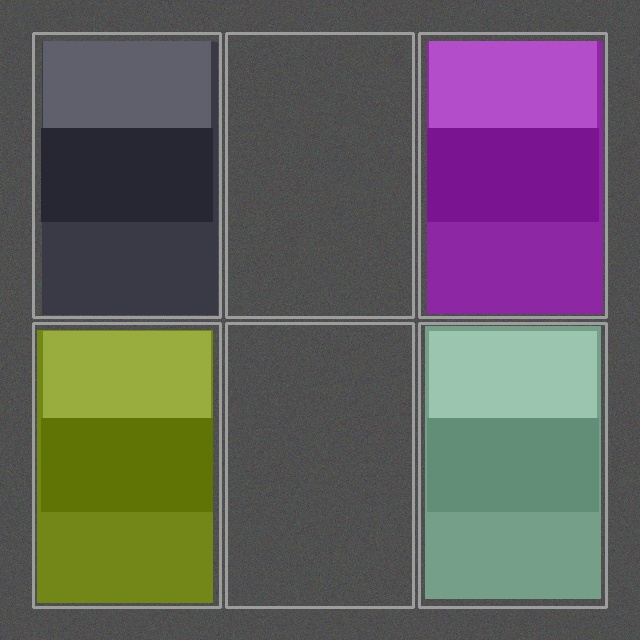space-empty: (228, 35, 411, 315), (228, 325, 411, 605)
space-occupied: (35, 35, 218, 315), (421, 35, 604, 315), (35, 325, 218, 605), (421, 325, 604, 605)
